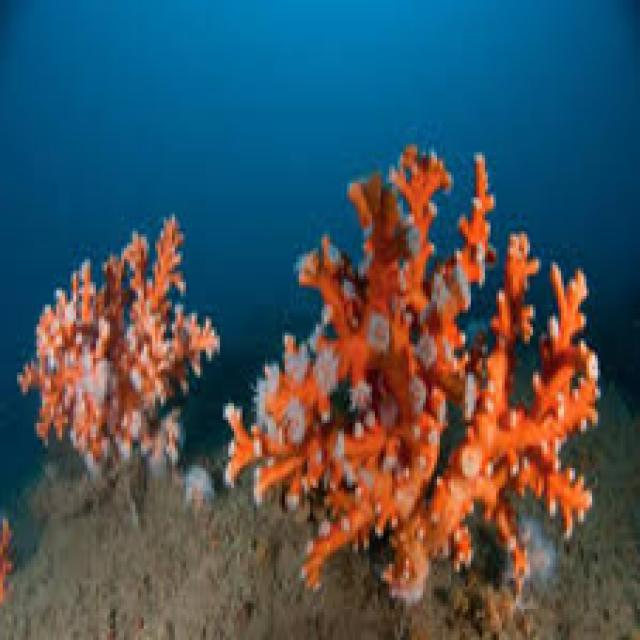Healthy: (227, 148, 599, 599), (18, 218, 218, 472)
